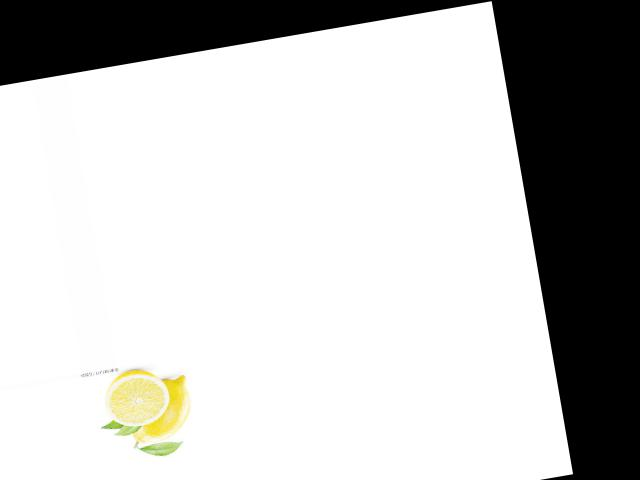lemon: (119, 370, 208, 449)
